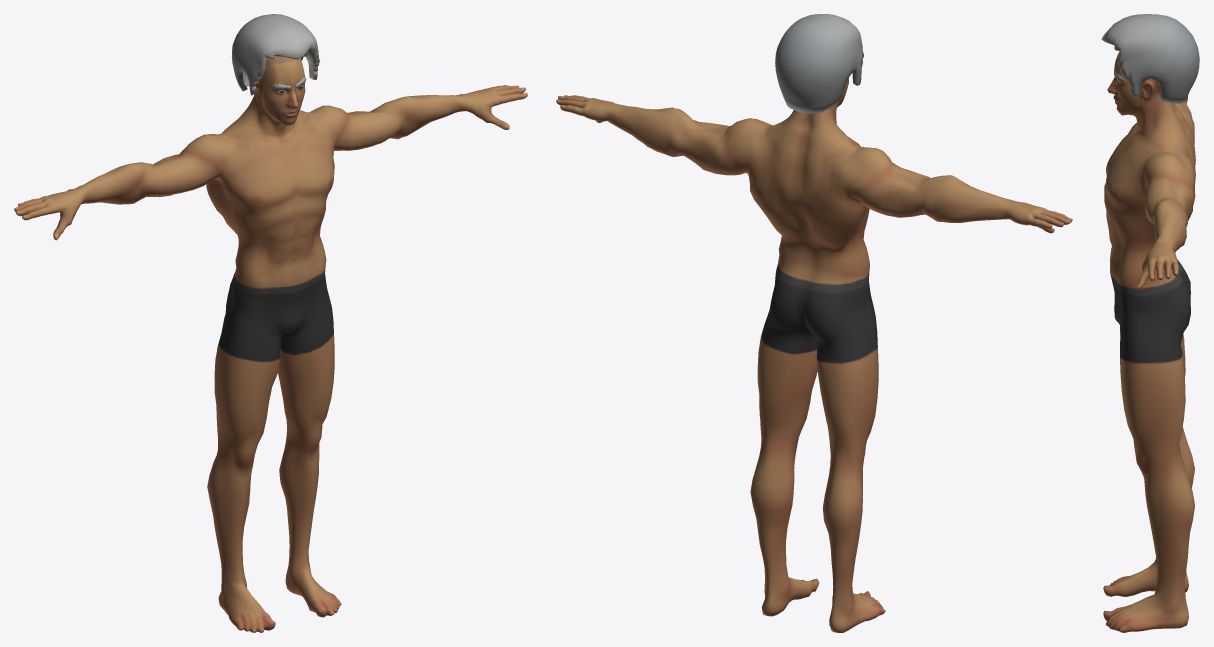
File: character-male-f.glb
3 views of the same model, side by side, from view 1: azimuth 30°, elevation 25°; view 2: azimuth 150°, elevation 25°; view 3: azimuth 270°, elevation 25° (orthographic).
Parts seen in each view (by area): view 1: crowd-body; view 2: crowd-body; view 3: crowd-body.
Part boxes in pixels (x1,y1,x2,y2): crowd-body: [14, 14, 527, 632]; crowd-body: [556, 14, 1072, 632]; crowd-body: [1101, 14, 1199, 632].
Size of the model in its own units: 1.15 by 1.27 by 0.1909.
Materials: 4 (4 with a texture image).
